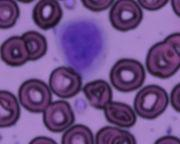L: (53, 15, 108, 75)
